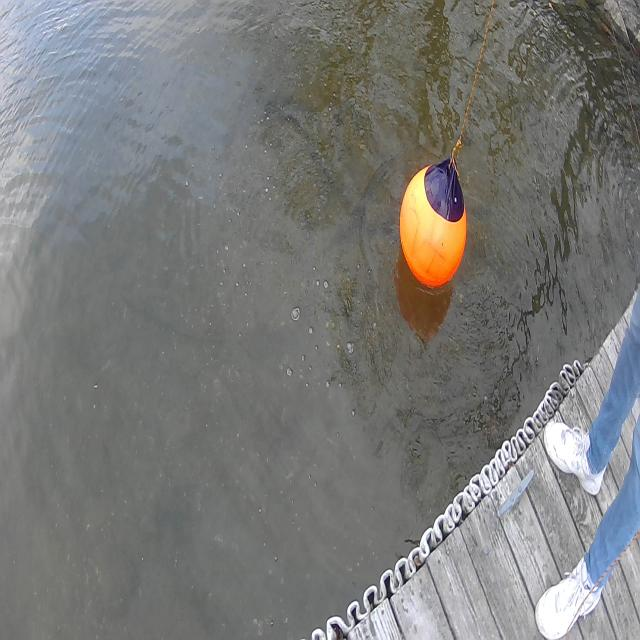Buoy: (395, 144, 474, 307)
